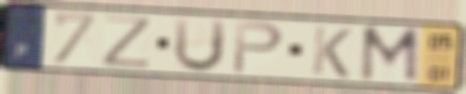7: (51, 10, 98, 67)
K: (309, 24, 354, 80)
M: (357, 25, 423, 87)
P: (230, 19, 287, 77)
U: (171, 16, 229, 75)
Z: (98, 14, 154, 70)
